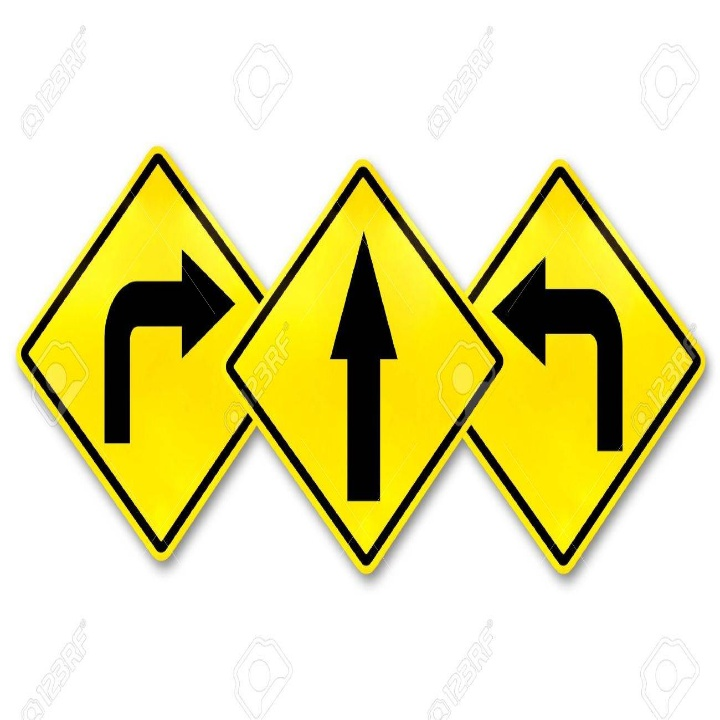left: (489, 250, 638, 462)
right: (86, 237, 243, 445)
